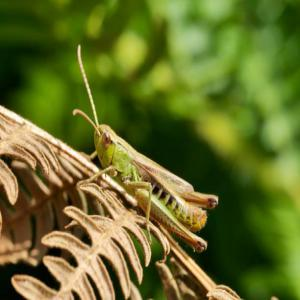locust: (68, 53, 218, 256)
